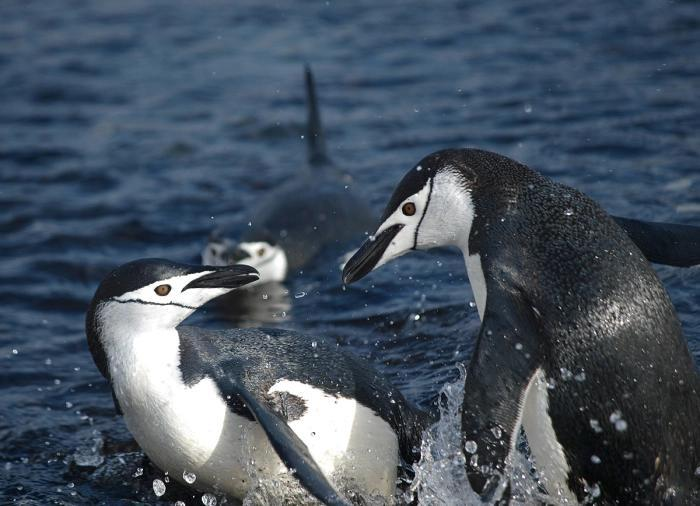Penguin: (343, 149, 699, 503), (86, 258, 430, 503), (202, 66, 377, 284)
